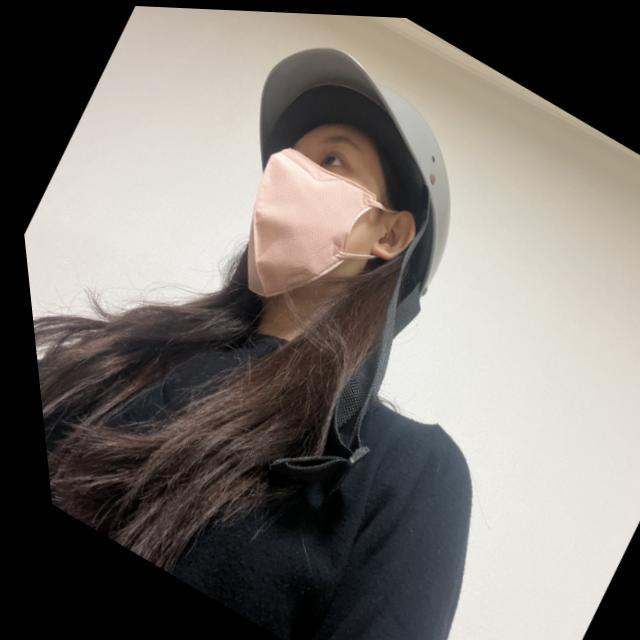Helmet: (232, 30, 458, 336)
